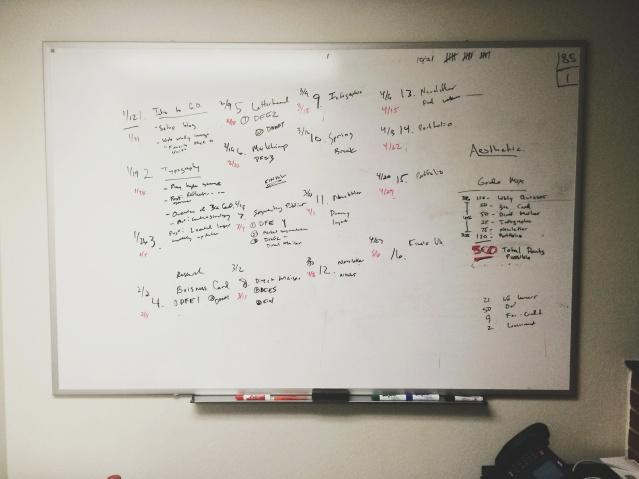Whiteboard: (40, 38, 588, 403)
